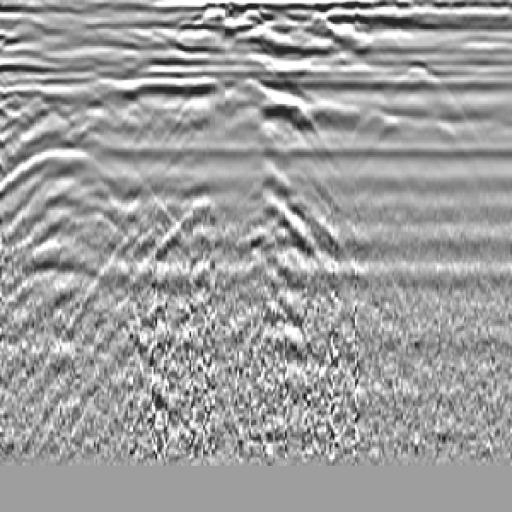metalic: (181, 59, 362, 270)
non-metallic: (5, 122, 173, 319)
